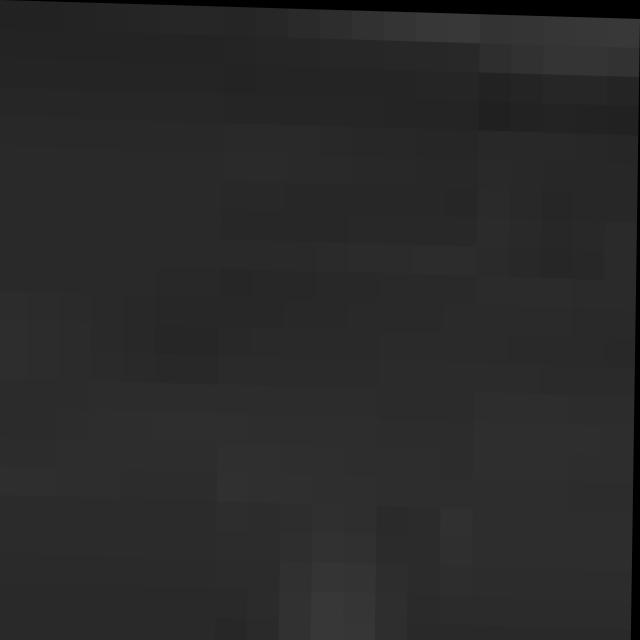fracture: (0, 18, 639, 640)
